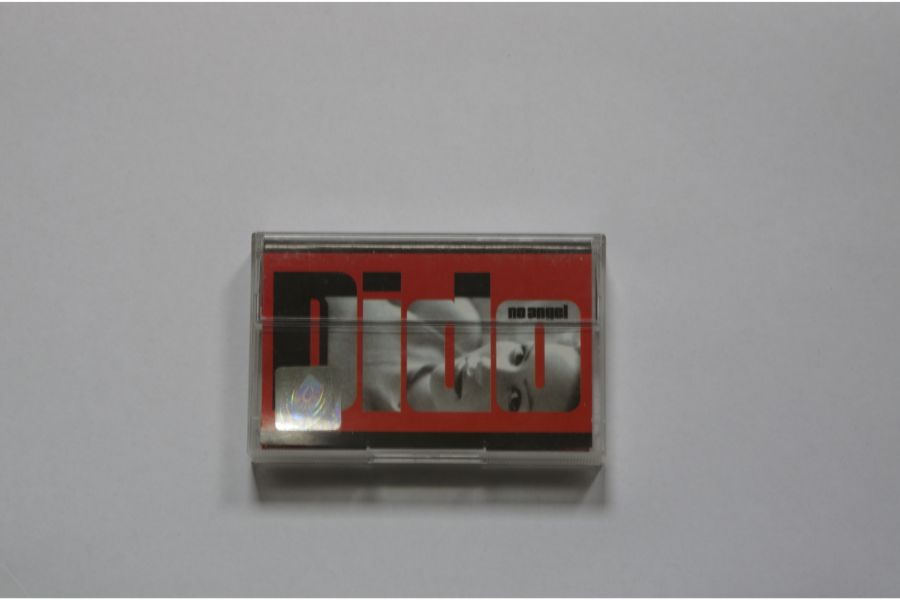album: (250, 227, 608, 470)
